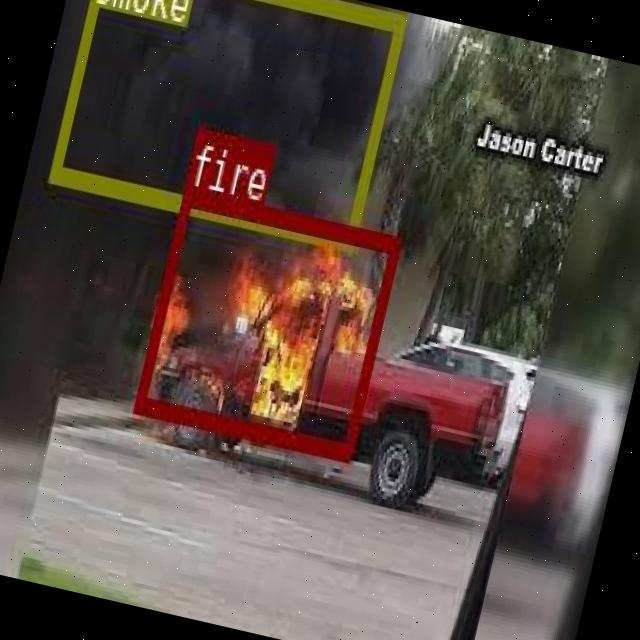fire: (133, 183, 400, 456)
smoke: (48, 0, 404, 248)
